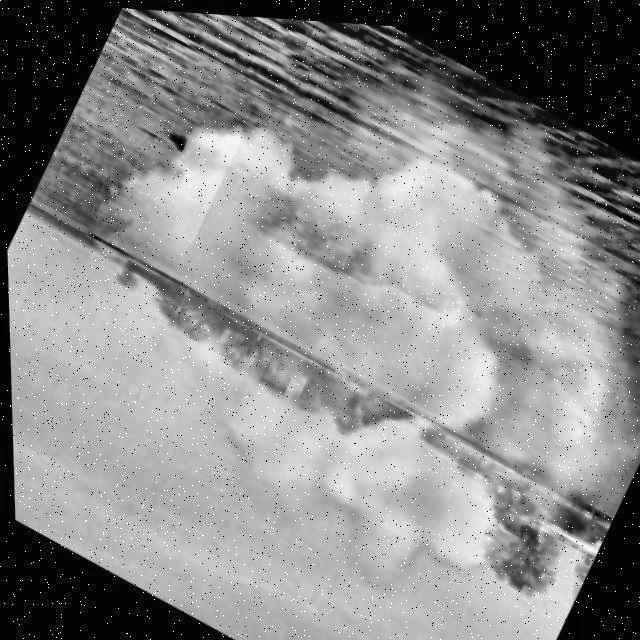Smoke: (9, 10, 640, 640)
